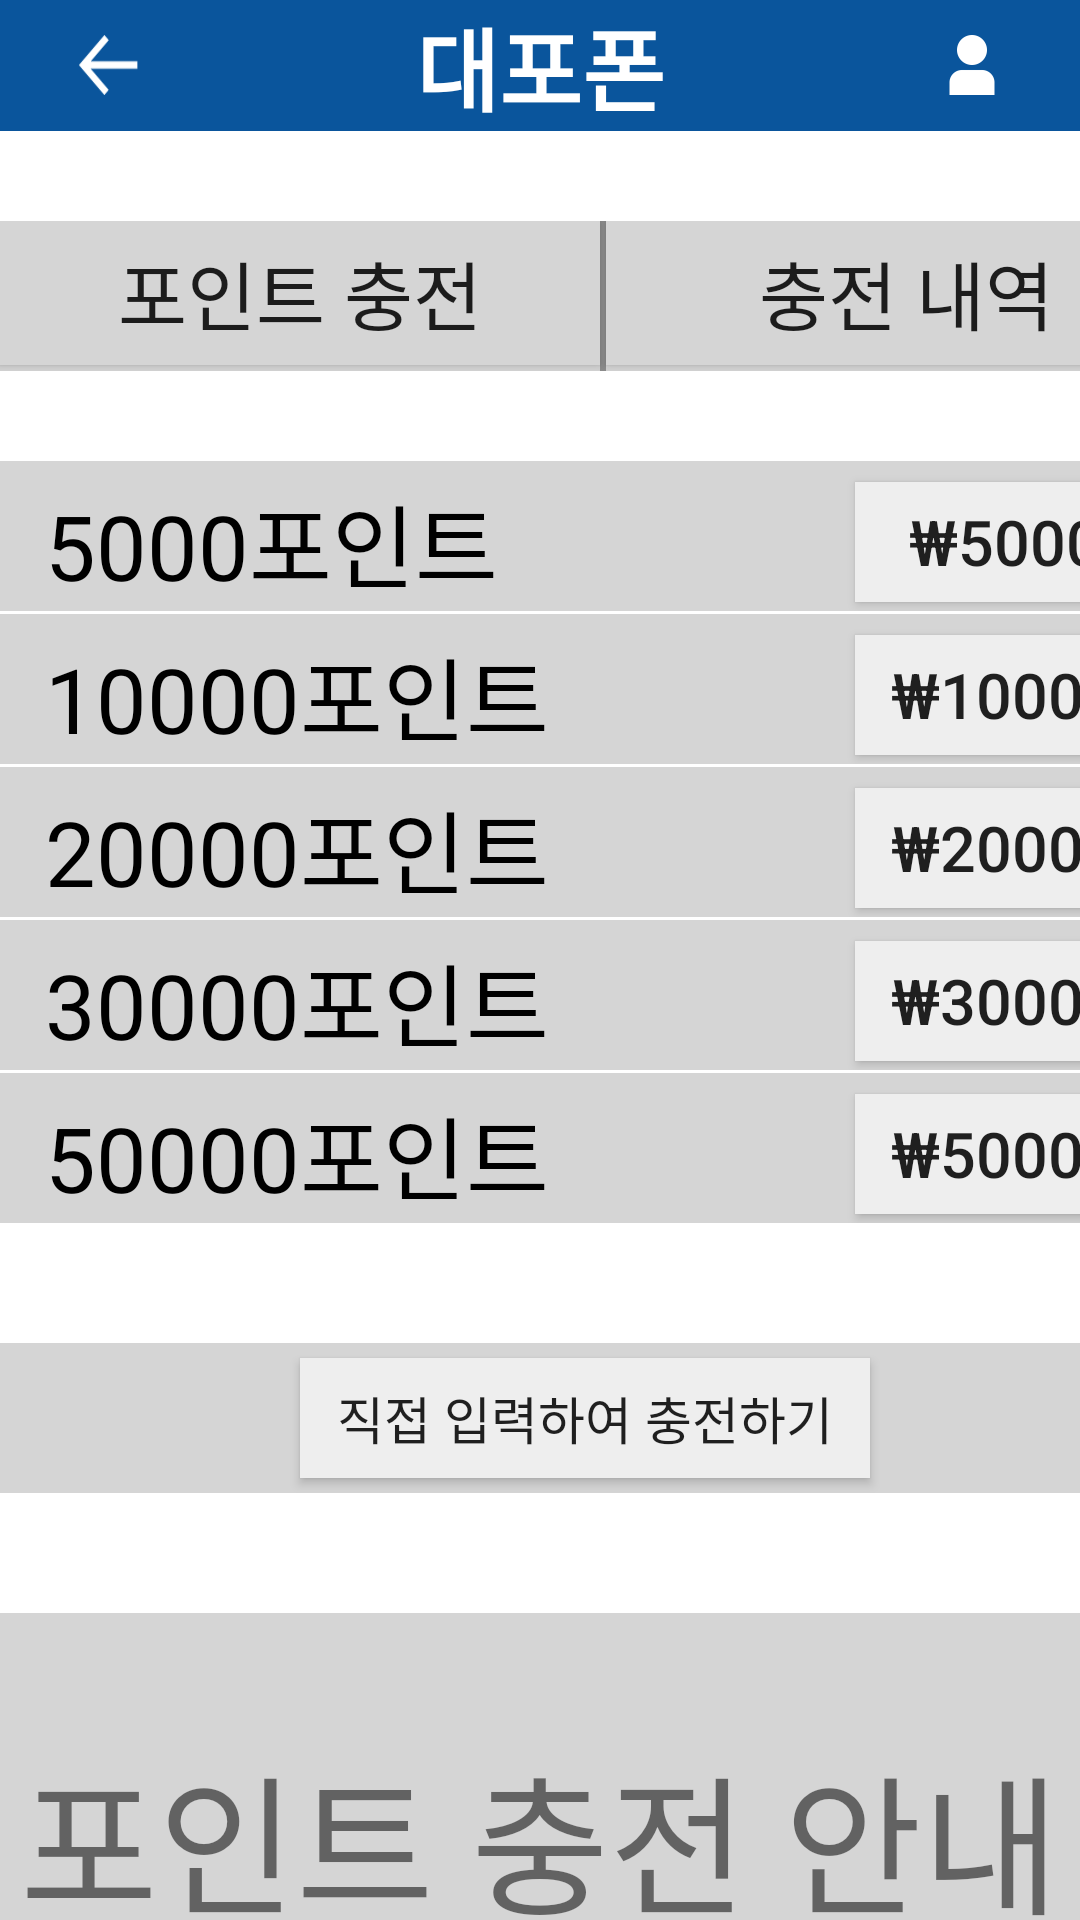

Where to tap for icons on this 1080x1920 app screen, as (x=x, y=y):
back arrow resize: (x=108, y=65)
user resize: (x=972, y=65)
